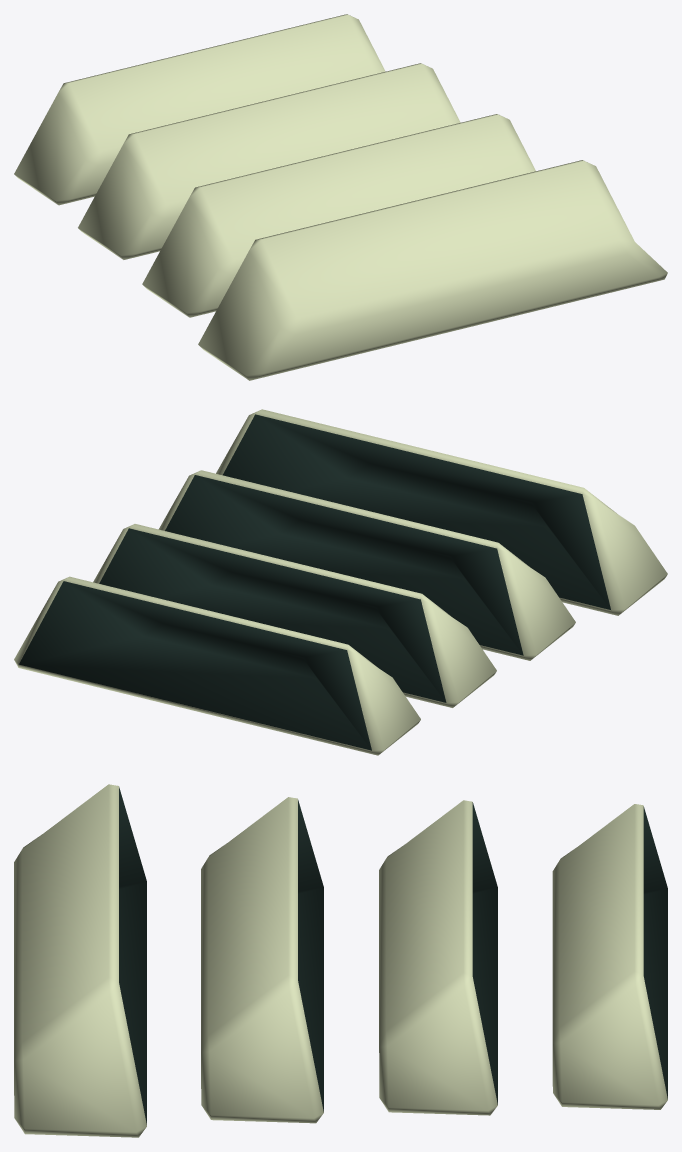
File: Breath_Teruck_Modified.fbx
3 renders of one model, top to bottom at view 1: azimuth 30°, elevation 25°; view 2: azimuth 150°, elevation 25°; view 3: azimuth 270°, elevation 25°, orthographic. The views are drawn at different scales.
Visible parts, largest first — view 1: Breath_Truck_Modified; view 2: Breath_Truck_Modified; view 3: Breath_Truck_Modified.
Boxes of the visible parts, x1,y1,x2,y2 form: Breath_Truck_Modified: (14,14,667,380); Breath_Truck_Modified: (14,409,667,755); Breath_Truck_Modified: (14,784,667,1137).
Size of the model in its own units: 1.14 by 0.2756 by 1.23.
